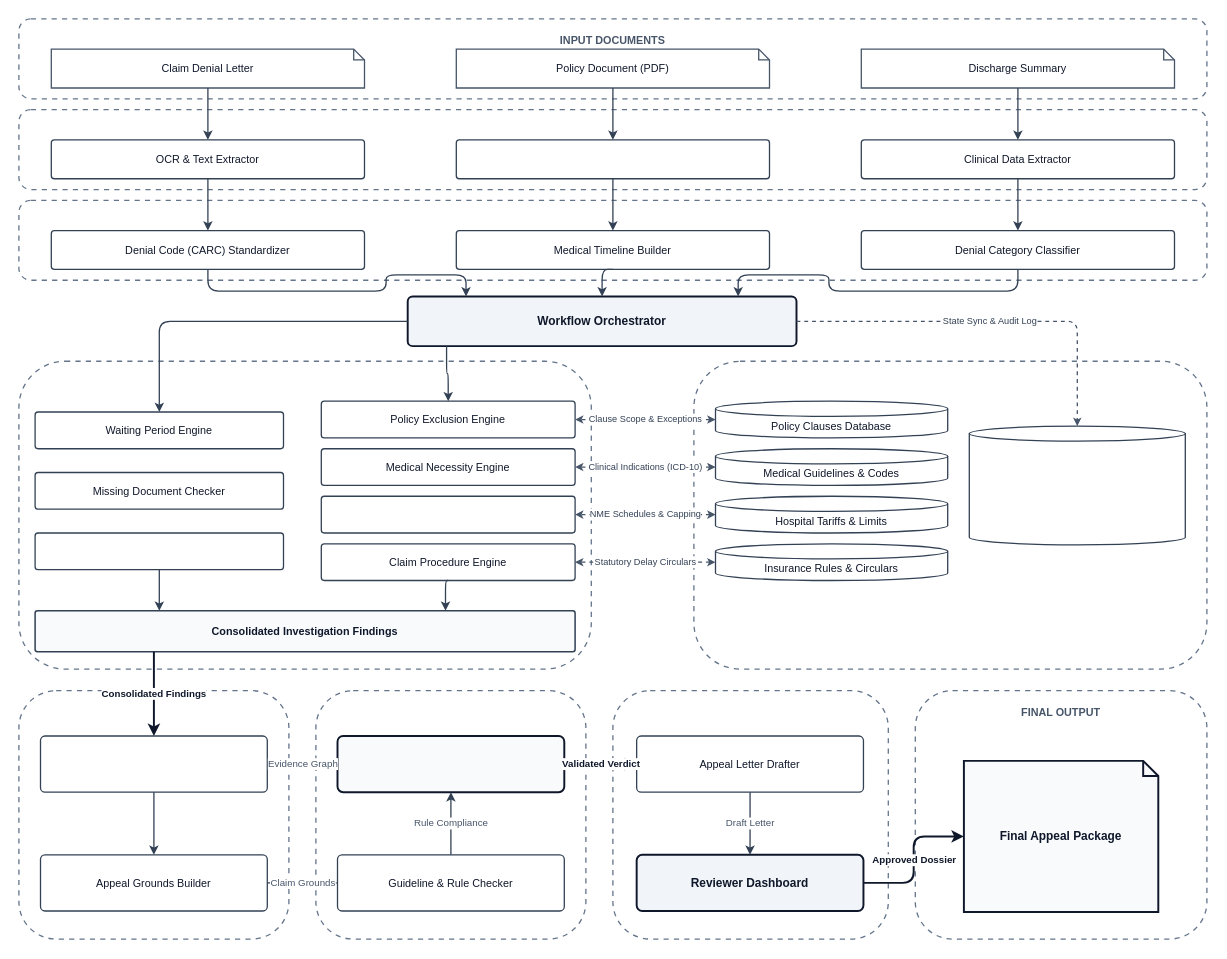
This 1227x959 diagram has some shape labels left out. The shapes that lost their labels are listed below. From the top down, each one's box as (x1, y1, x2, y2) in pixels, then its label:
(18, 108, 1207, 190): DOCUMENT PROCESSING
(455, 139, 770, 179): Medical Document Parser
(18, 199, 1207, 280): STANDARDIZATION & TRIAGE
(968, 425, 1185, 545): Case History & Audit DB
(18, 360, 591, 669): INVESTIGATION ENGINES (7 SPECIALIZED WORKERS)
(320, 495, 575, 533): Billing & Sub-Limit Engine
(693, 360, 1207, 669): REFERENCE DATABASES
(34, 532, 284, 570): Patient Eligibility Engine
(39, 735, 267, 792): Evidence Aggregator
(336, 735, 565, 793): Appeal Verdict Evaluator
(18, 689, 289, 939): EVIDENCE & REASONING
(315, 689, 586, 939): VERDICT & COMPLIANCE
(612, 689, 888, 939): APPEAL DRAFTING & REVIEW
